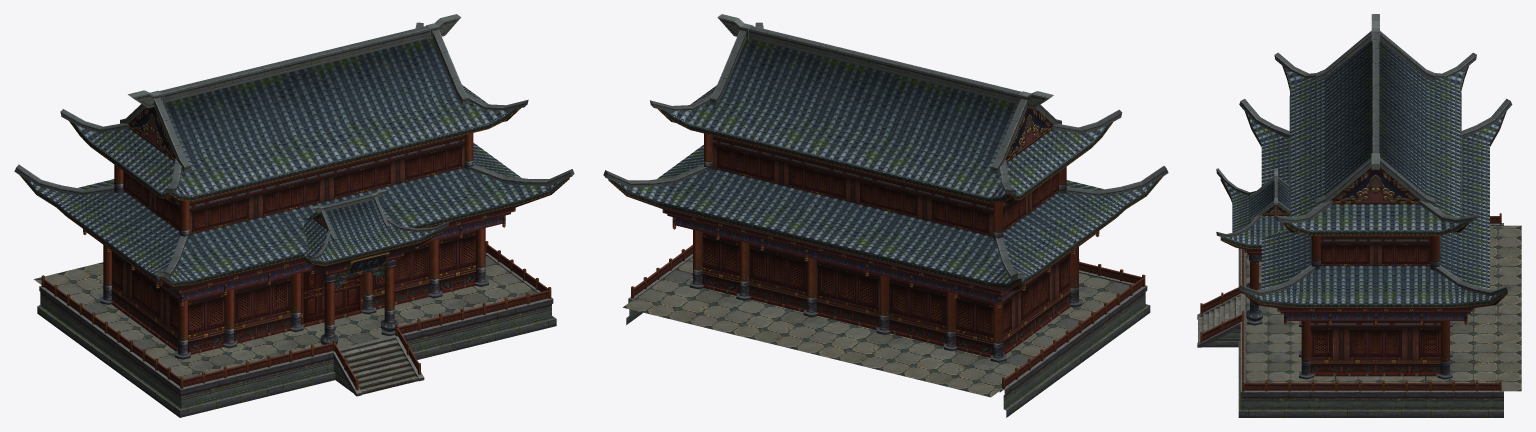
The model's file is HYC_jianzhu_01.FBX.
The picture shows the model from 3 angles, left to right: view 1: azimuth 30°, elevation 25°; view 2: azimuth 150°, elevation 25°; view 3: azimuth 270°, elevation 25°; orthographic projection. The views are drawn at different scales.
Visible parts, largest first — view 1: HYC_jianzhu_01; view 2: HYC_jianzhu_01; view 3: HYC_jianzhu_01.
Boxes of the visible parts, box(x1,y1,x2,y2) form: HYC_jianzhu_01: box(14, 14, 574, 417); HYC_jianzhu_01: box(603, 14, 1168, 417); HYC_jianzhu_01: box(1197, 14, 1521, 417).
Bounding box in the file's own units: 2704 × 1621 × 1956.
